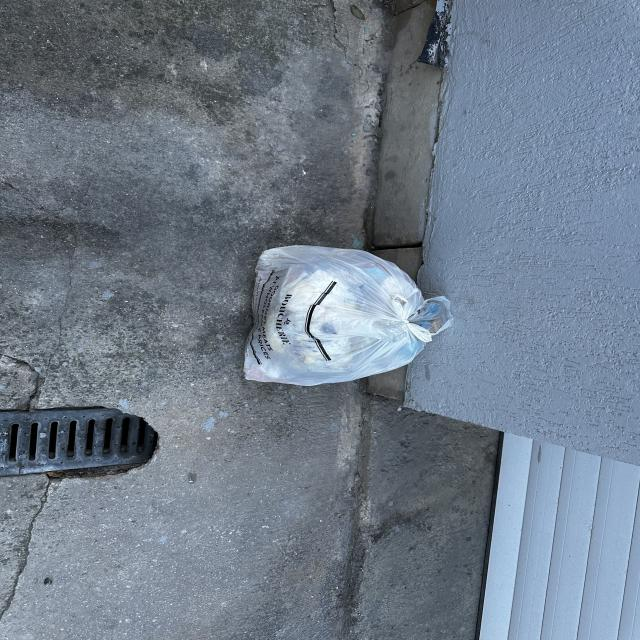Organic Waste -White Bags-: (243, 246, 455, 386)
